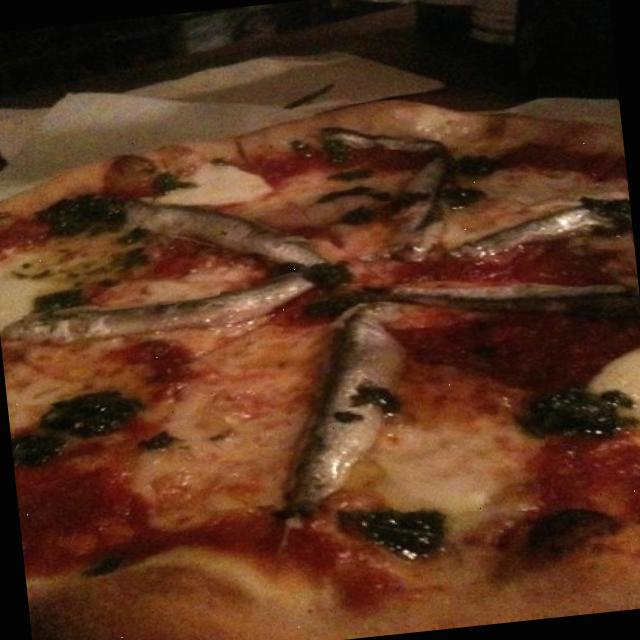cheese: (138, 358, 300, 516), (384, 406, 552, 524), (251, 170, 348, 236), (95, 264, 220, 312)
pizza: (0, 100, 640, 640)
